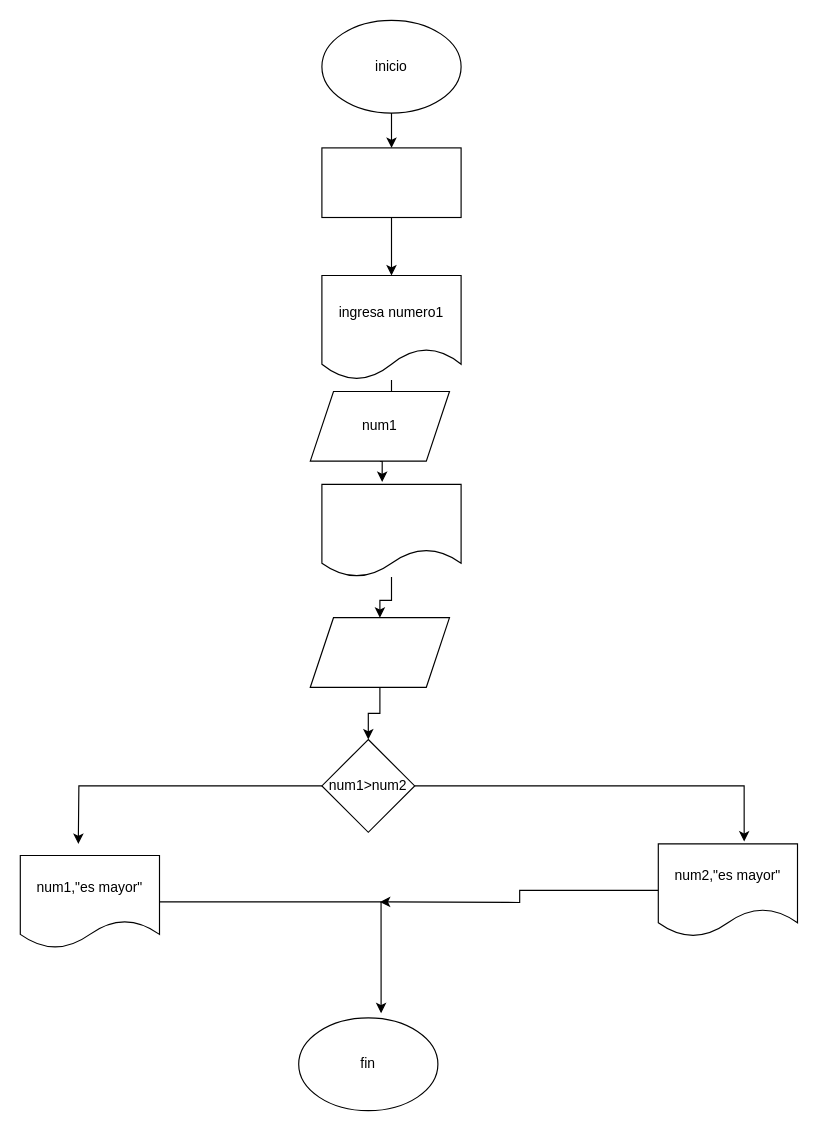
This 818x1131 diagram has some shape labels left out. The box of each missing label's shape, as (x1, y1, x2, y2) in pixels:
ingresa numero2: (321, 483, 461, 577)
num1 num2: (321, 147, 461, 217)
num2: (309, 617, 449, 687)
